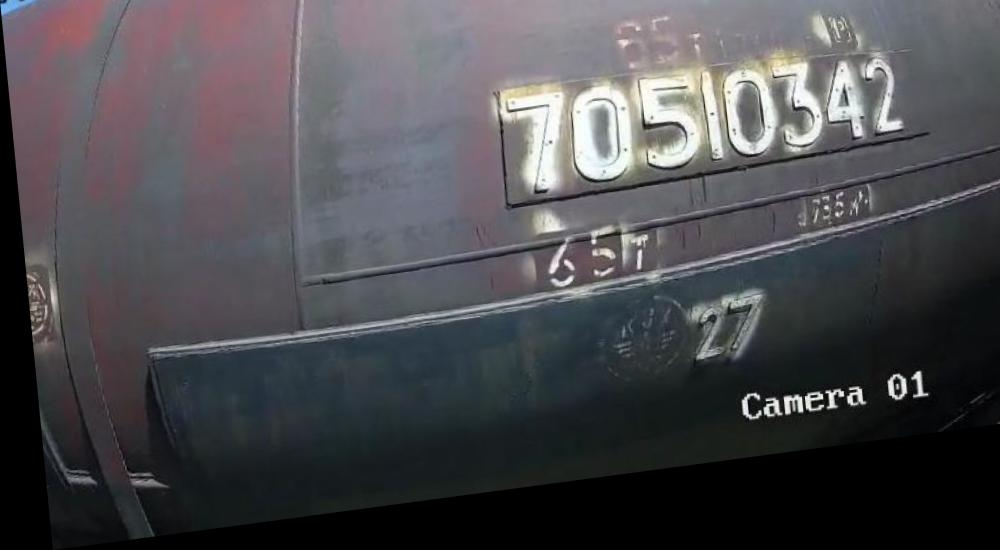Wagon-number: (496, 63, 908, 207)
